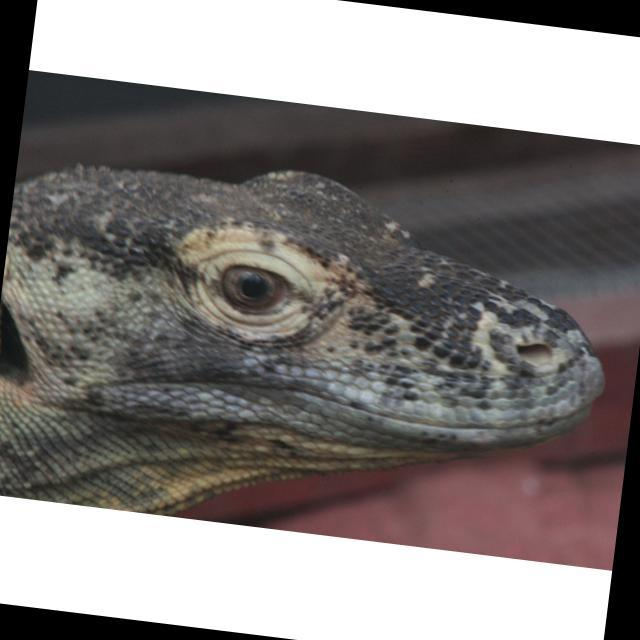KomodoDragon: (0, 133, 625, 564)
